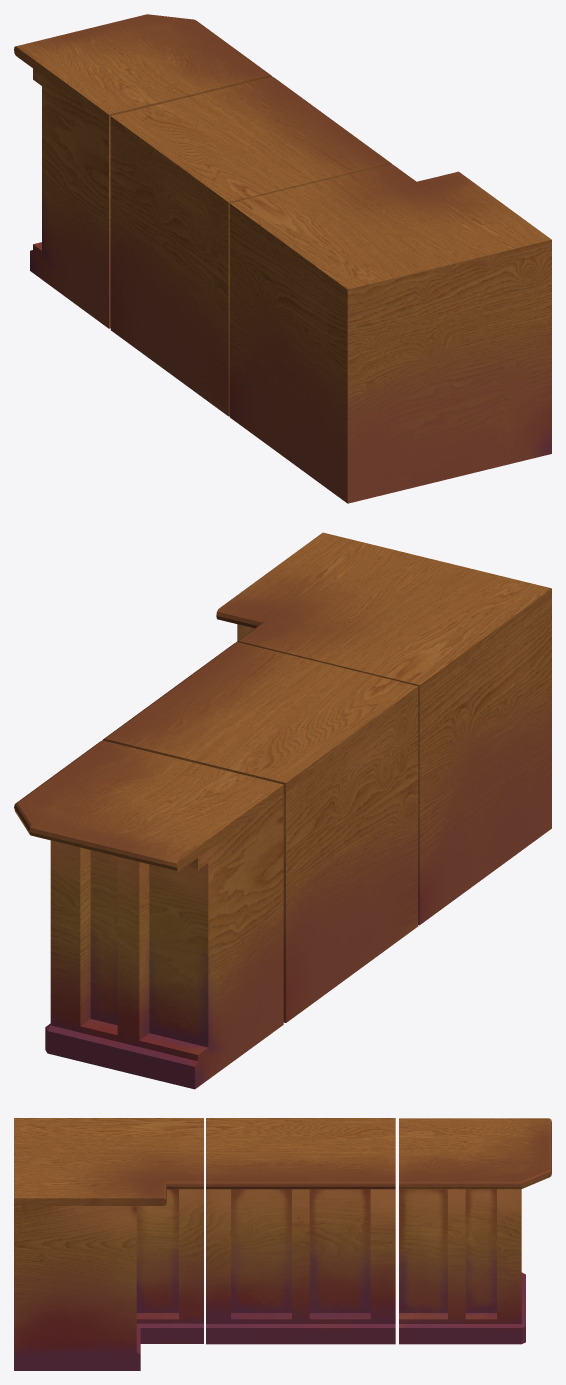
File: ENV_Mesadas.fbx
3 renders of one model, top to bottom at view 1: azimuth 30°, elevation 25°; view 2: azimuth 150°, elevation 25°; view 3: azimuth 270°, elevation 25°, orthographic. The views are drawn at different scales.
Visible parts, largest first — view 1: m_Mesada_Esquinera_Interior, m_Mesada_Intermedia, m_Mesada_Esquinera_Exterior; view 2: m_Mesada_Esquinera_Exterior, m_Mesada_Esquinera_Interior, m_Mesada_Intermedia; view 3: m_Mesada_Esquinera_Interior, m_Mesada_Intermedia, m_Mesada_Esquinera_Exterior.
Part boxes in pixels (x1=…): m_Mesada_Esquinera_Interior: x1=229, y1=164, x2=551, y2=503; m_Mesada_Intermedia: x1=110, y1=77, x2=391, y2=416; m_Mesada_Esquinera_Exterior: x1=14, y1=14, x2=272, y2=328; m_Mesada_Esquinera_Exterior: x1=14, y1=740, x2=283, y2=1089; m_Mesada_Esquinera_Interior: x1=216, y1=532, x2=551, y2=925; m_Mesada_Intermedia: x1=102, y1=642, x2=418, y2=1022; m_Mesada_Esquinera_Interior: x1=14, y1=1118, x2=203, y2=1370; m_Mesada_Intermedia: x1=206, y1=1118, x2=395, y2=1344; m_Mesada_Esquinera_Exterior: x1=399, y1=1118, x2=551, y2=1344.
Size of the model in its own units: 209 by 209 by 592.
Materials: 2 (2 with a texture image).
